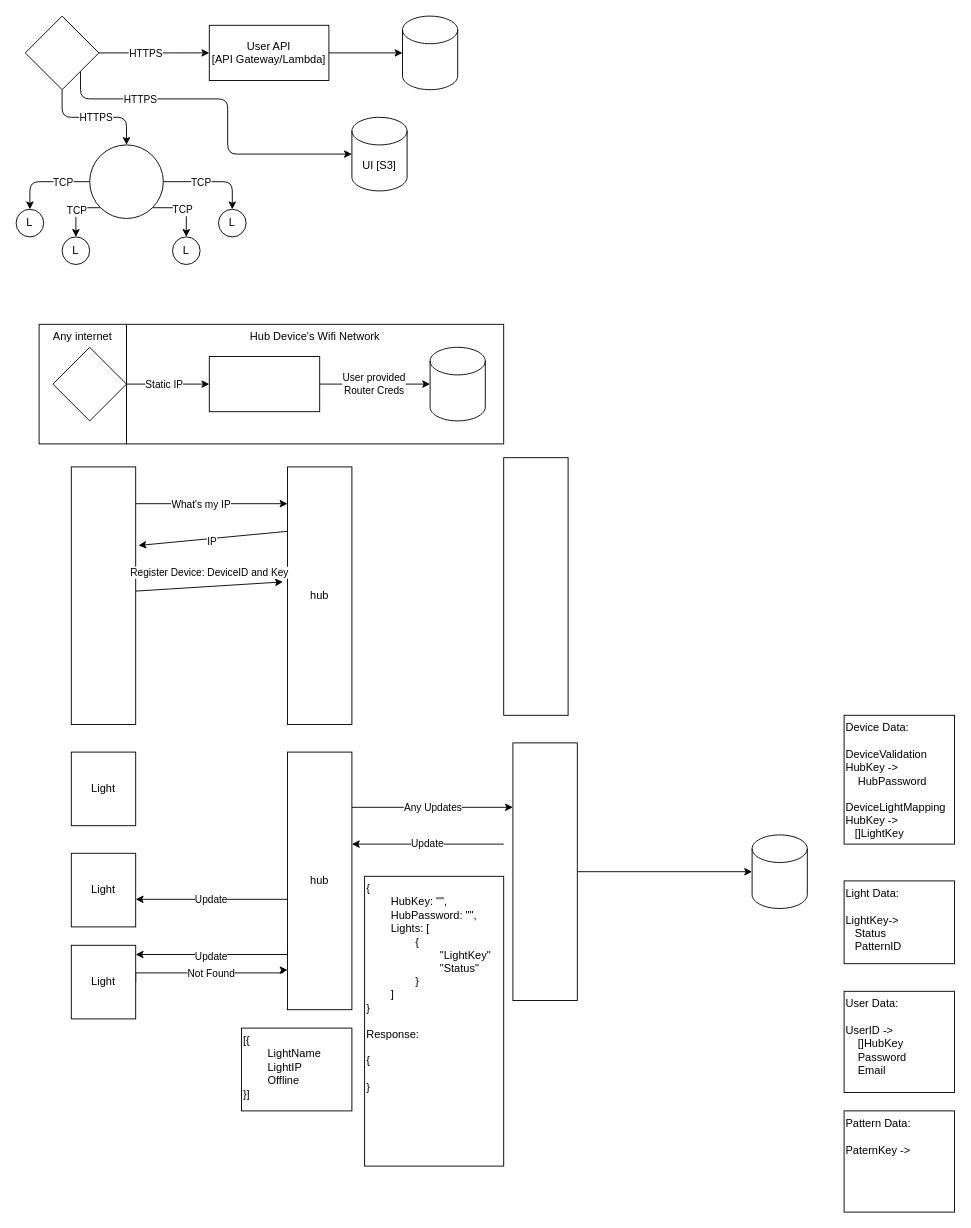
Some shapes in this 971 by 1228 pixel diagram are drawn without their labels. The shapes that lost their labels are listed below. From the top down, each one's centre as x and y in pixels, then its label:
the point at 61,52: Client
the point at 430,52: User [Dynamo]
the point at 126,181: Hub API [TBD In Home]
the point at 89,383: Web Page
the point at 264,384: Hub Device (Access Point Mode)
the point at 457,383: In Home Router
the point at 103,595: New Light
the point at 535,586: API
the point at 544,871: Cloud API
